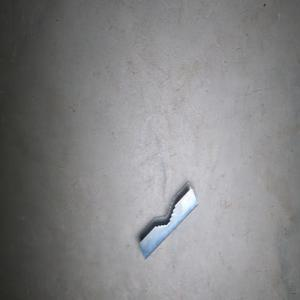ClampPart: (138, 180, 199, 260)
